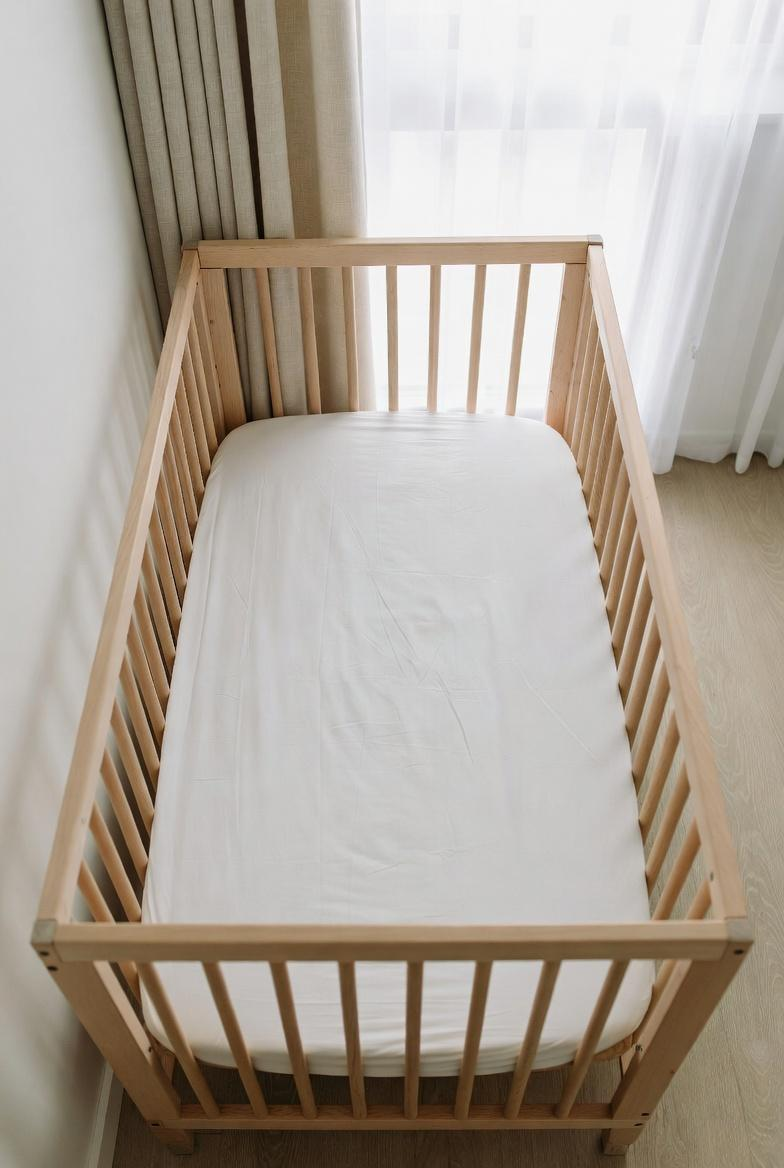crib: (33, 238, 751, 1153)
